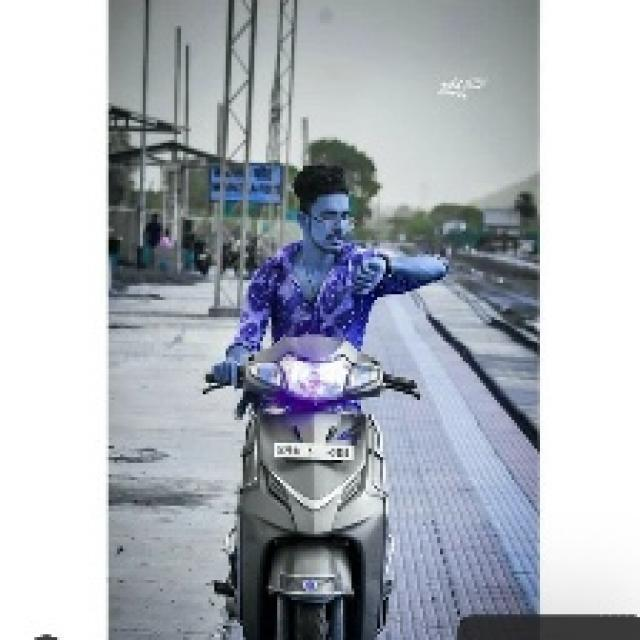Motorcycle: (224, 346, 416, 638)
